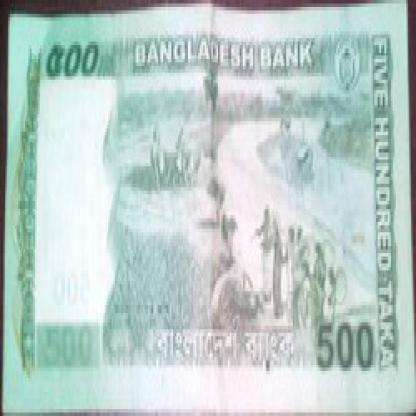500 taka: (314, 308, 390, 378), (46, 38, 102, 80)
currency: (12, 21, 408, 392)
